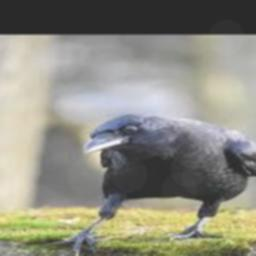Crow: (52, 114, 256, 256)
